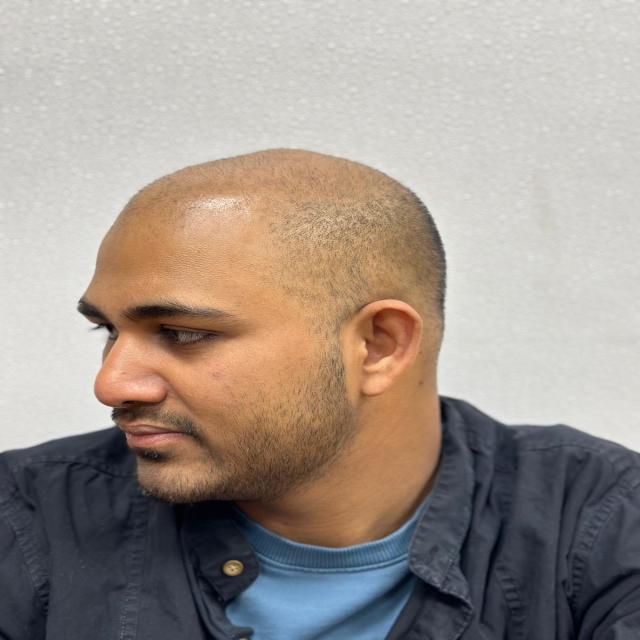nocap: (67, 133, 474, 290)
